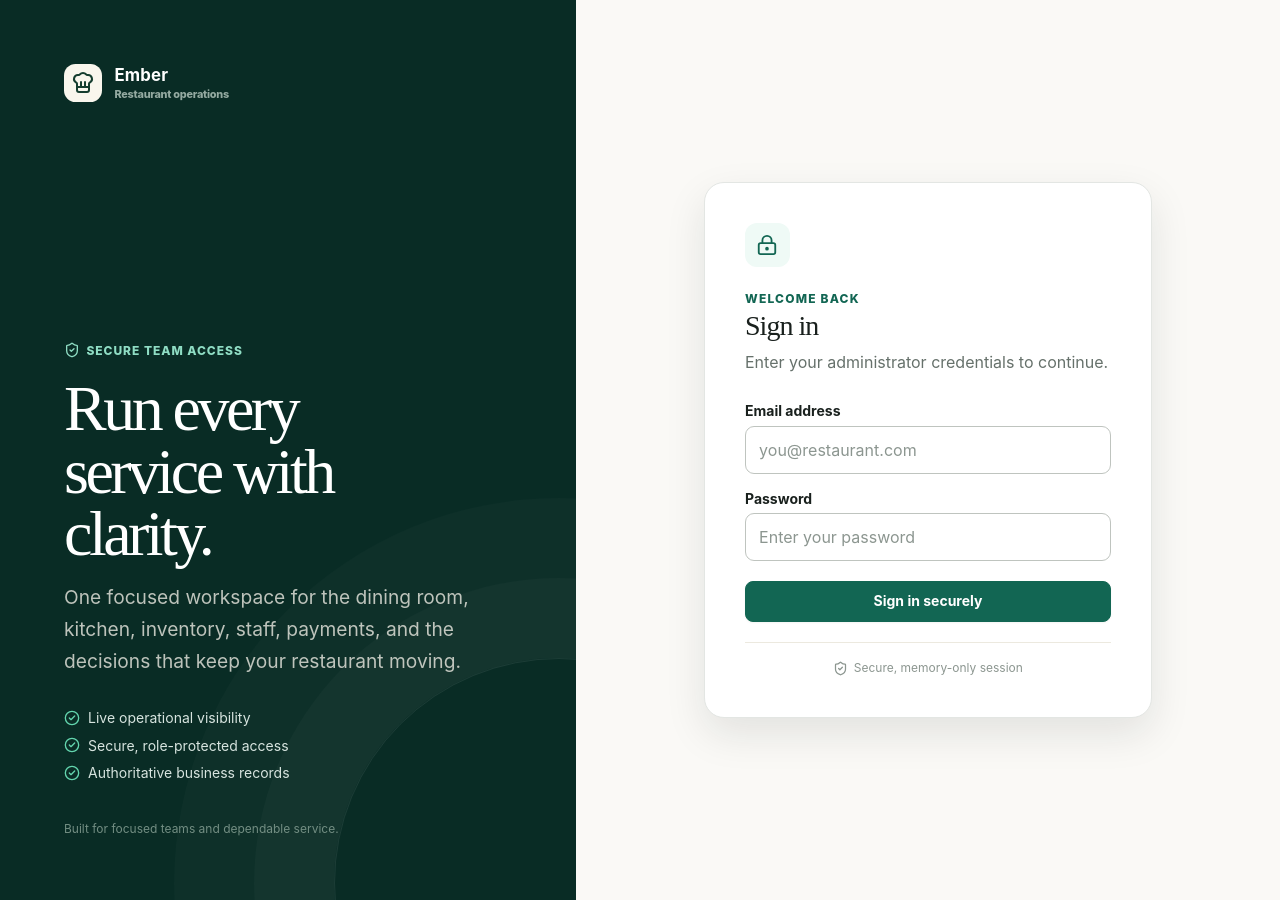
Test: LoginPage › logs in once and redirects to the authenticated dashboard
Expected: the heading "Sign in" is shown, x1=745 y1=310 x2=818 y2=341
Type "operator@example.test" into the field labelled "Email address". click: (928, 450)
box: x1=745 y1=426 x2=1111 y2=474
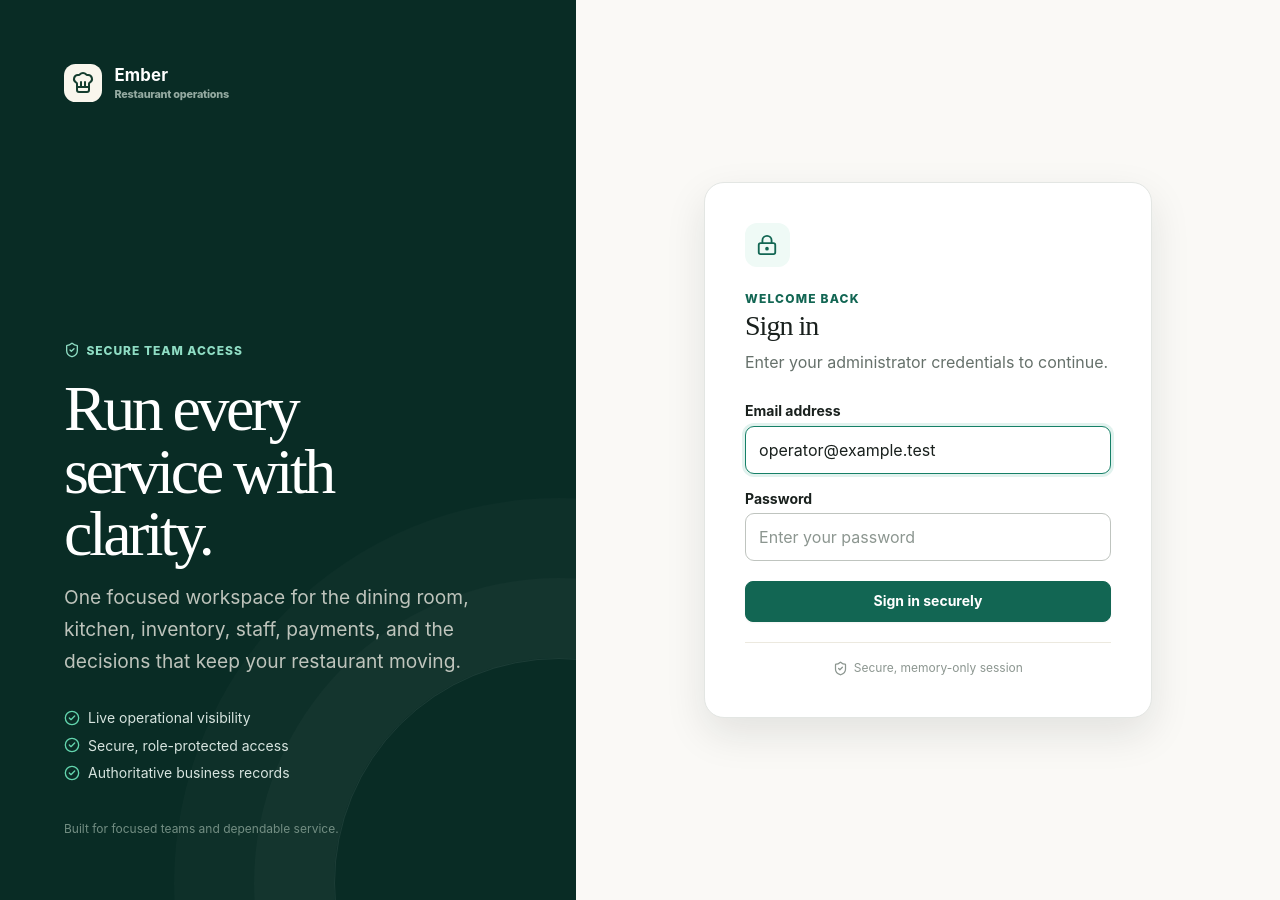
Type "valid-password" into the password field labelled "Password". click: (928, 537)
box: x1=745 y1=513 x2=1111 y2=561
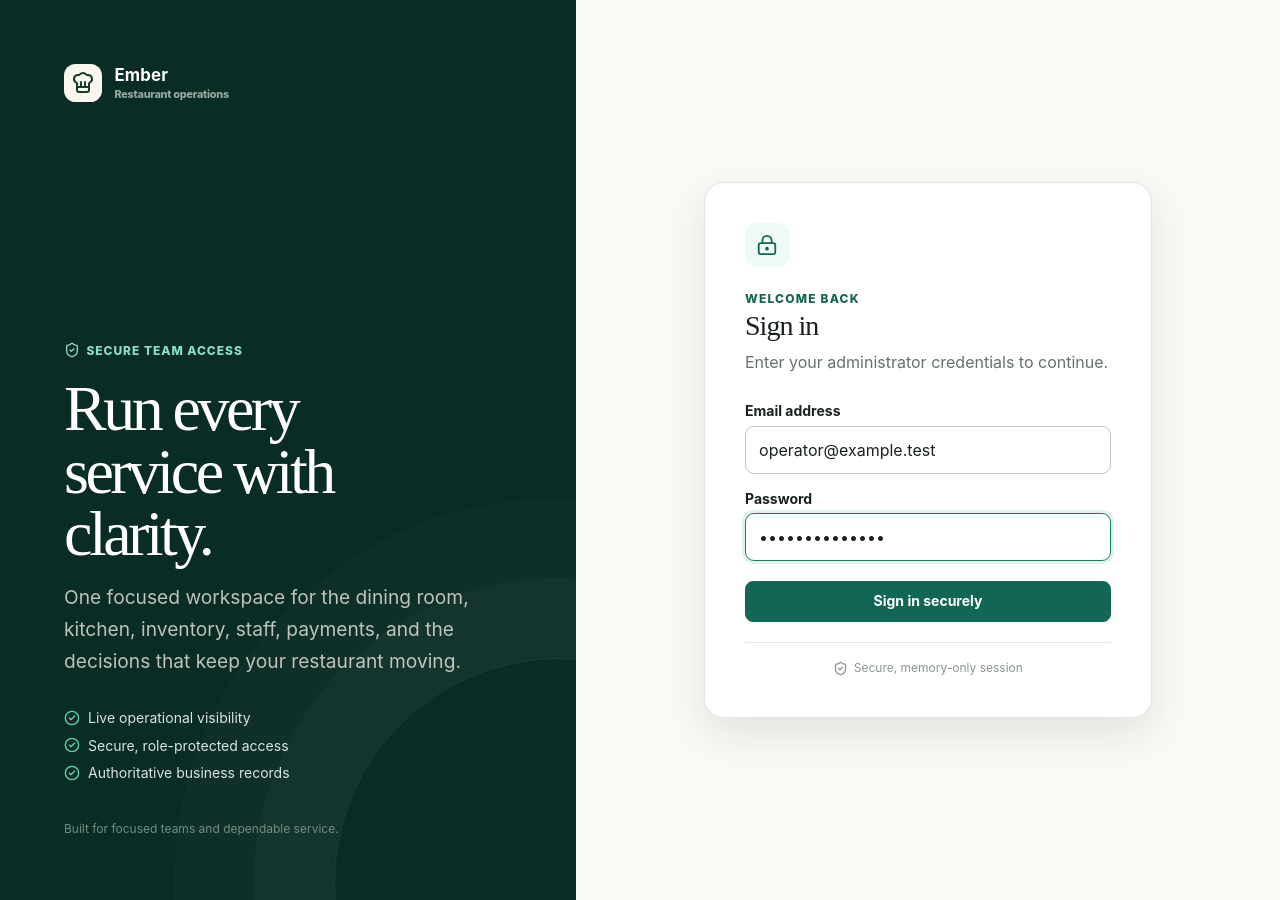
Click the button "Sign in securely". click: (928, 602)
box: x1=745 y1=581 x2=1111 y2=622
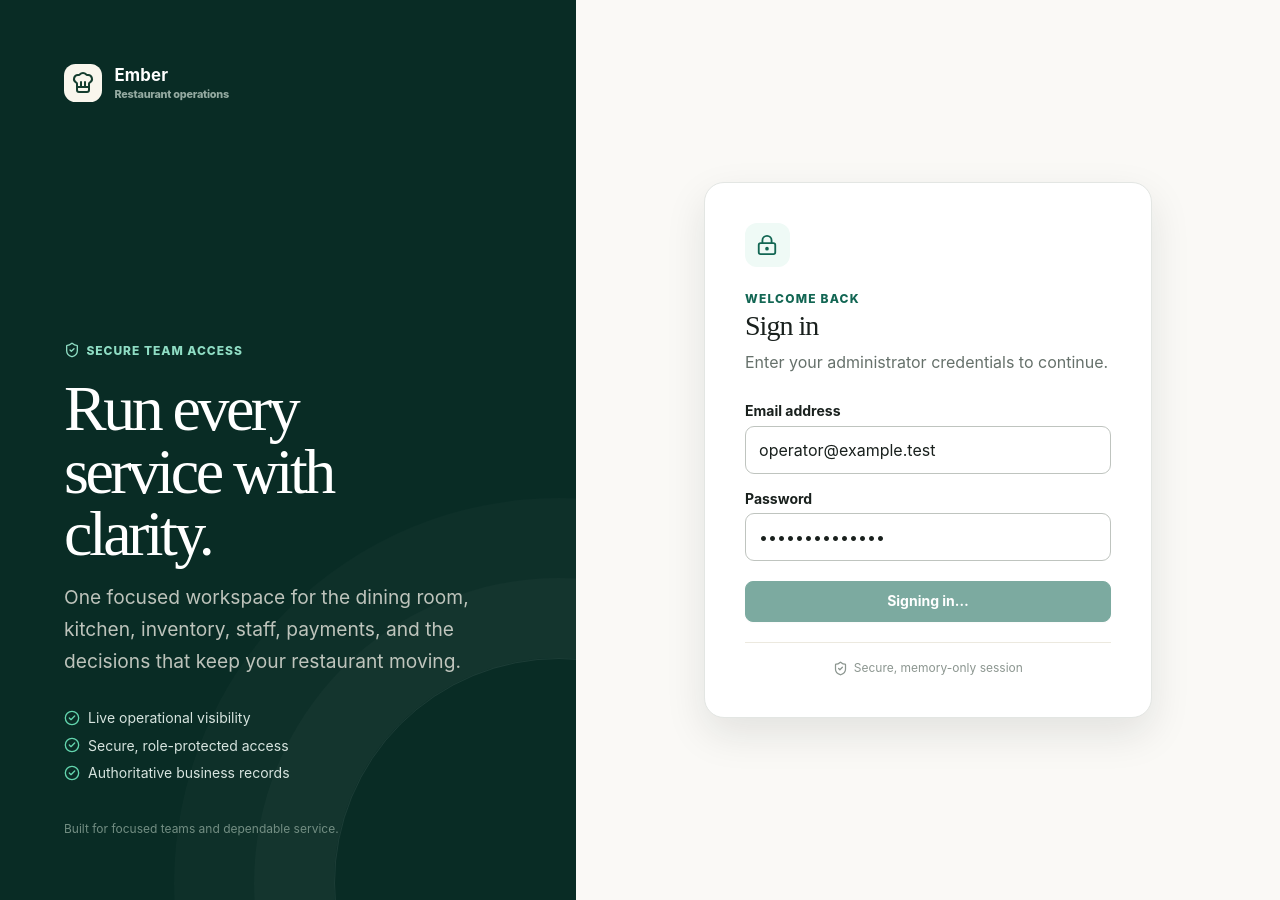
Result: the button "Signing in…" is disabled
Click the button "Signing in…". click: (928, 602)
box: x1=745 y1=581 x2=1111 y2=622
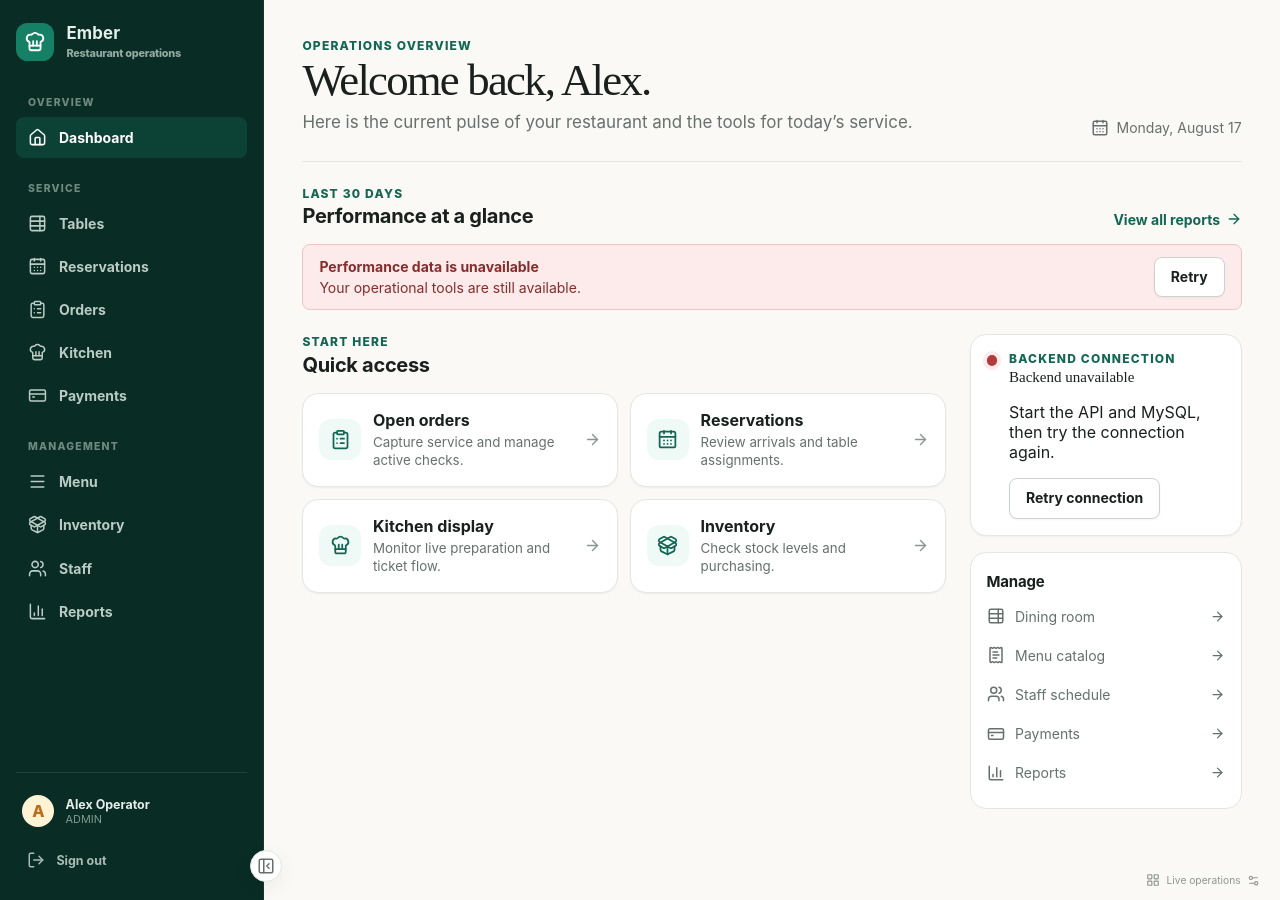
Result: the heading "Welcome back, Alex." is shown at x1=302 y1=55 x2=650 y2=105
Result: the text "Alex Operator" is shown at x1=66 y1=797 x2=150 y2=812
